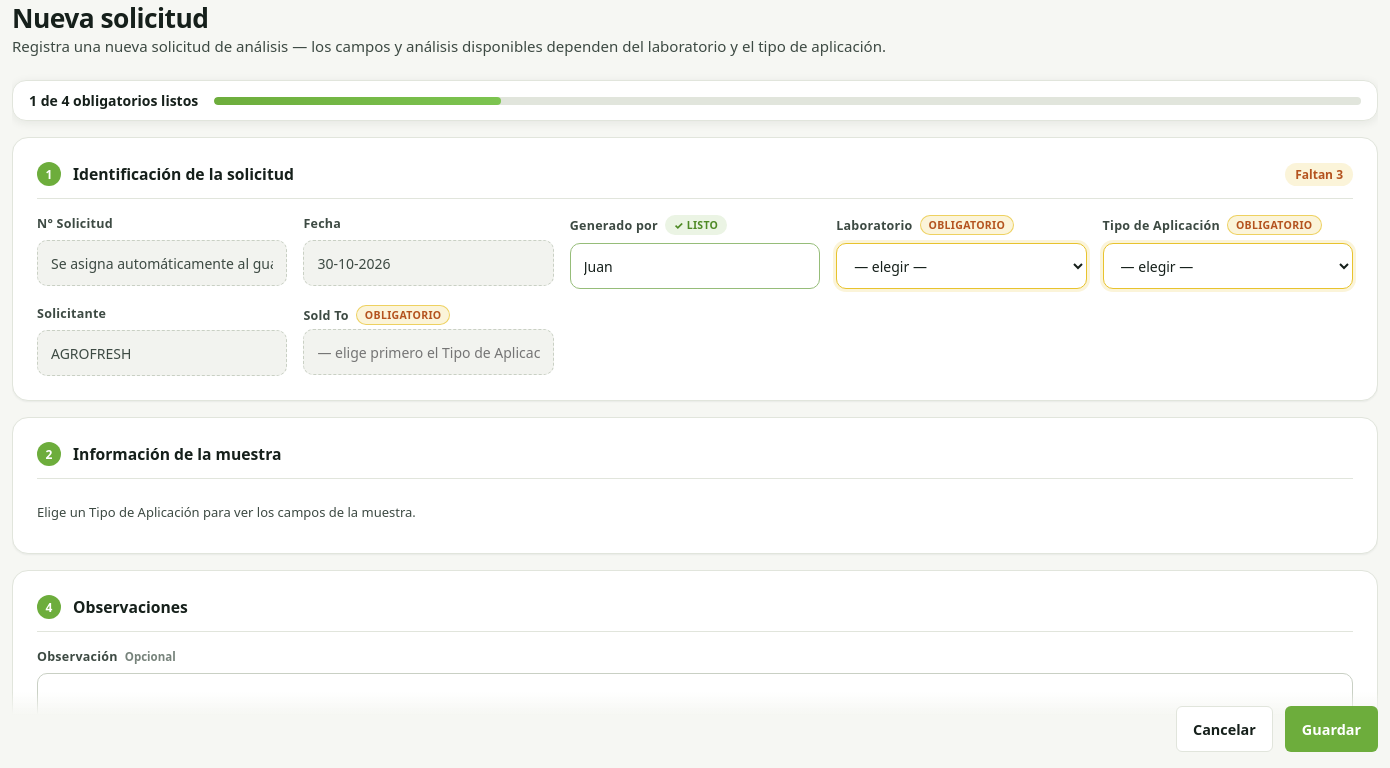
Test: NuevaSolicitudView — crear › un Análisis "Panel completo" viene con sus analitos marcados y bloqueados, y solo se quita completo
Select "AgroFresh" in the dropdown labelled "Laboratorio" at (961,266), box [836,243,1087,289]
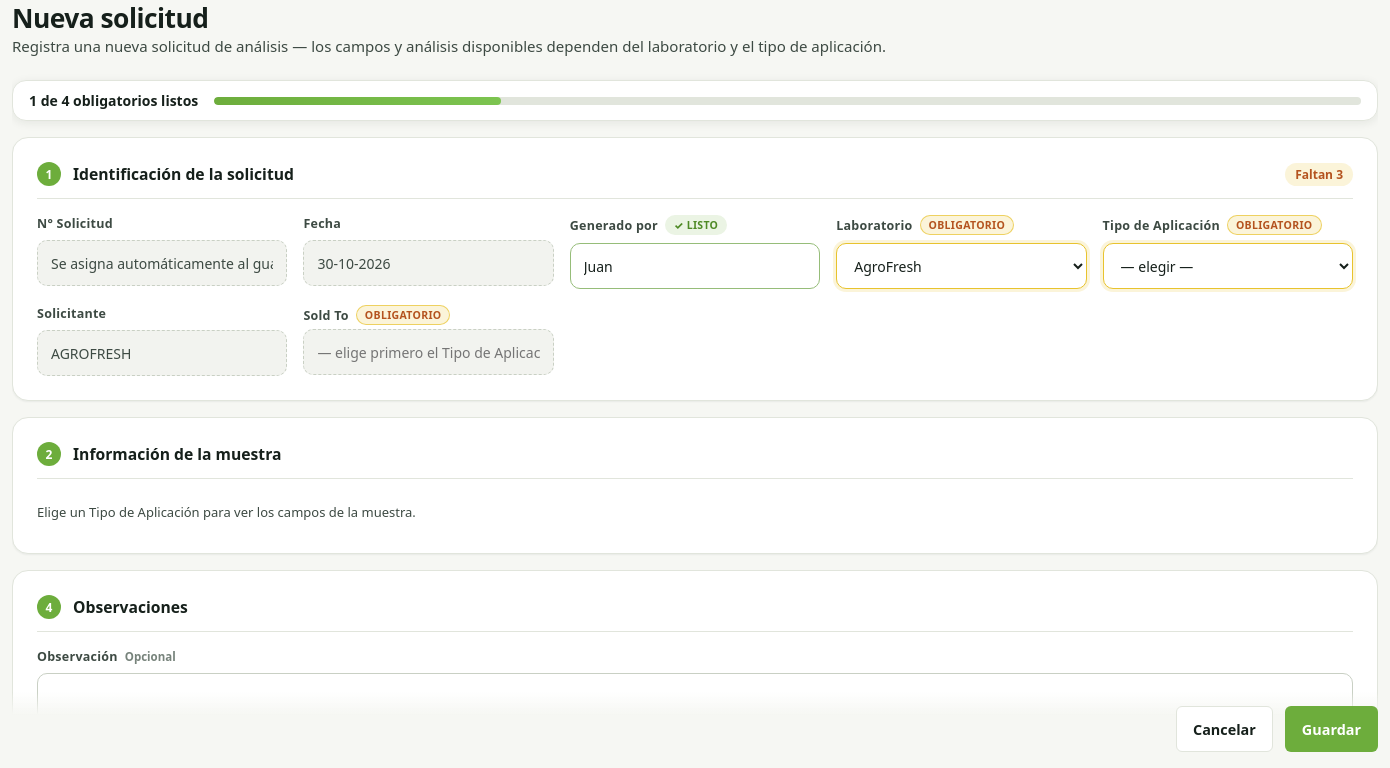
Select "Actimist" in the dropdown labelled "Tipo de Aplicación" at (1228,266), box [1103,243,1353,289]
(page scrolled)
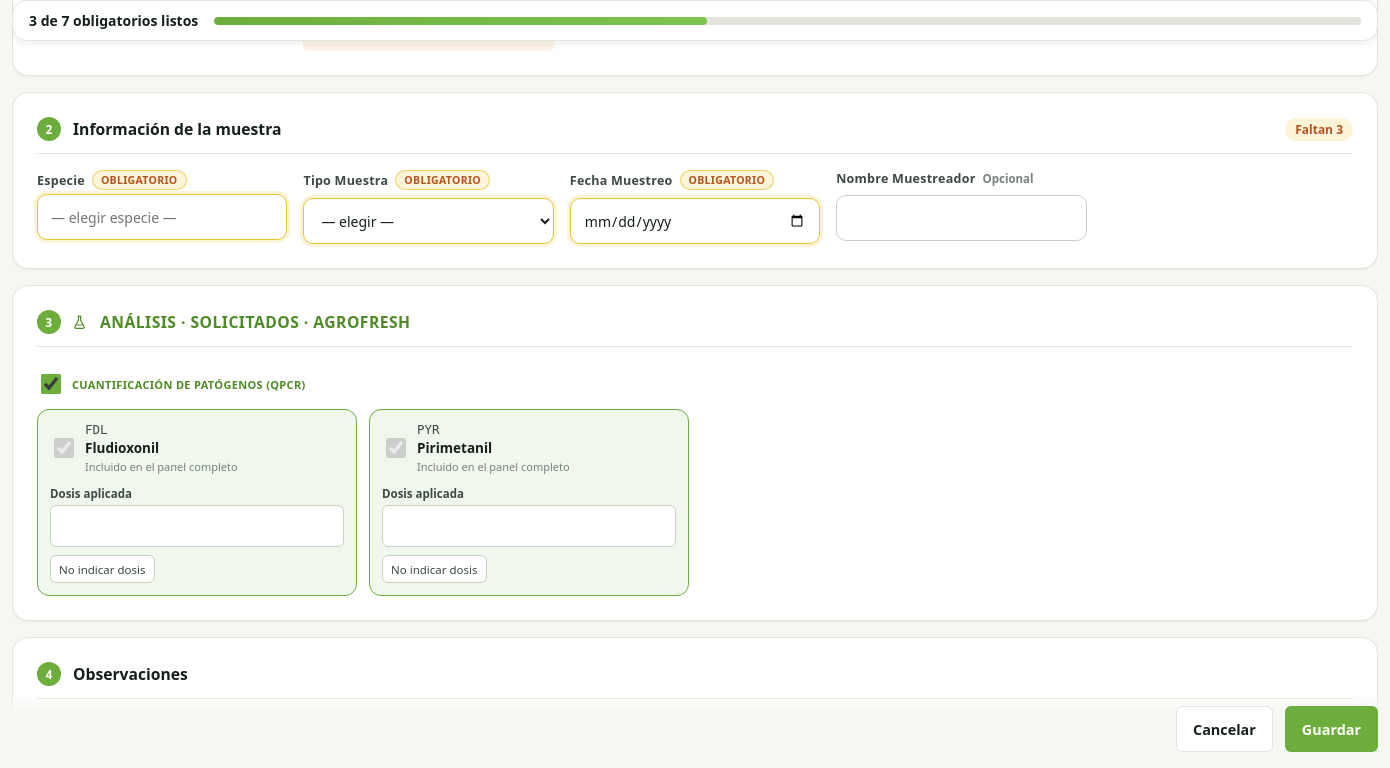
Expected: the checkbox labelled "FDL Fludioxonil Incluido en el panel completo" is checked, [54,438,74,458]
Expected: the checkbox labelled "PYR Pirimetanil Incluido en el panel completo" is checked, [386,438,406,458]
Expected: the checkbox labelled "FDL Fludioxonil Incluido en el panel completo" is disabled, [54,438,74,458]
Click the checkbox named "Seleccionar todo el análisis Cuantificación de patógenos (qPCR)" at (51,384), box [41,374,61,394]
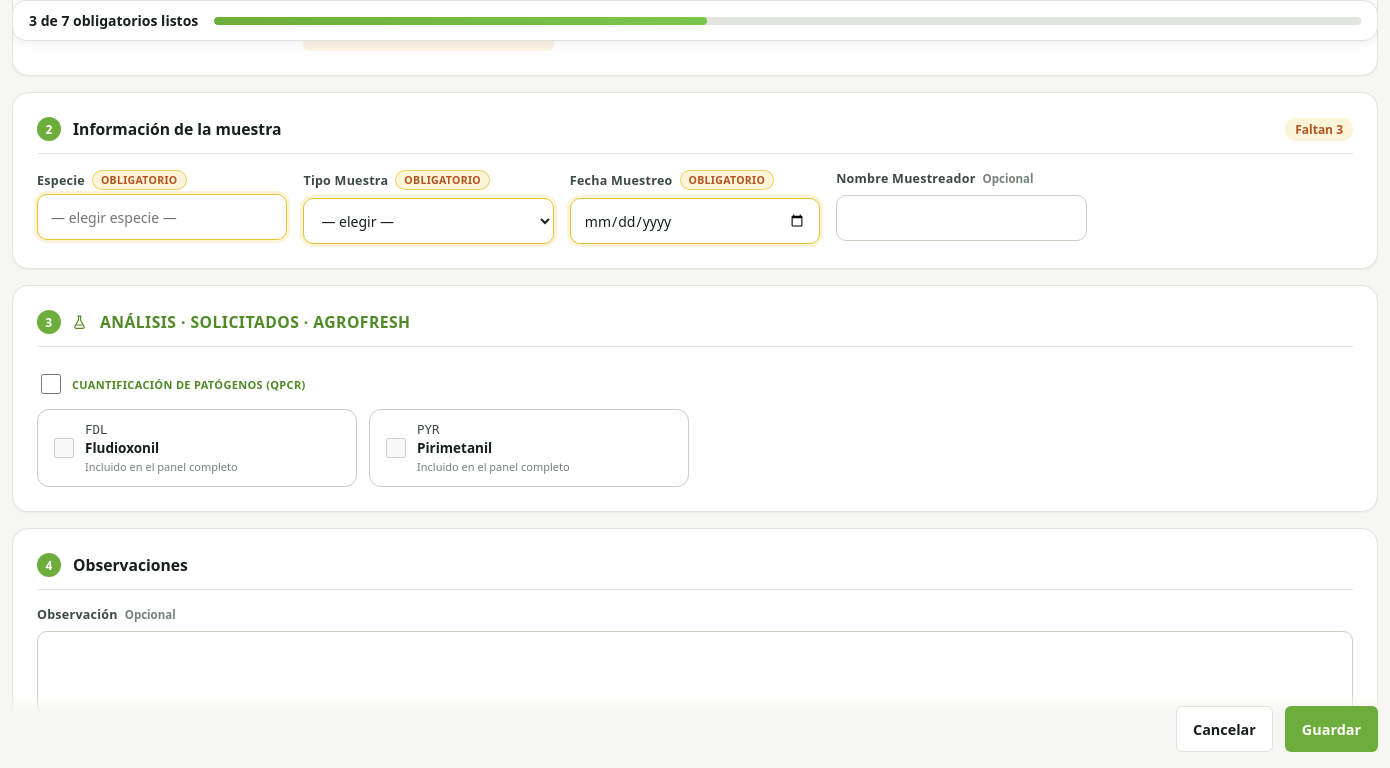
Expected: the checkbox labelled "FDL Fludioxonil Incluido en el panel completo" is not checked, [54,438,74,458]
Expected: the checkbox labelled "PYR Pirimetanil Incluido en el panel completo" is not checked, [386,438,406,458]
